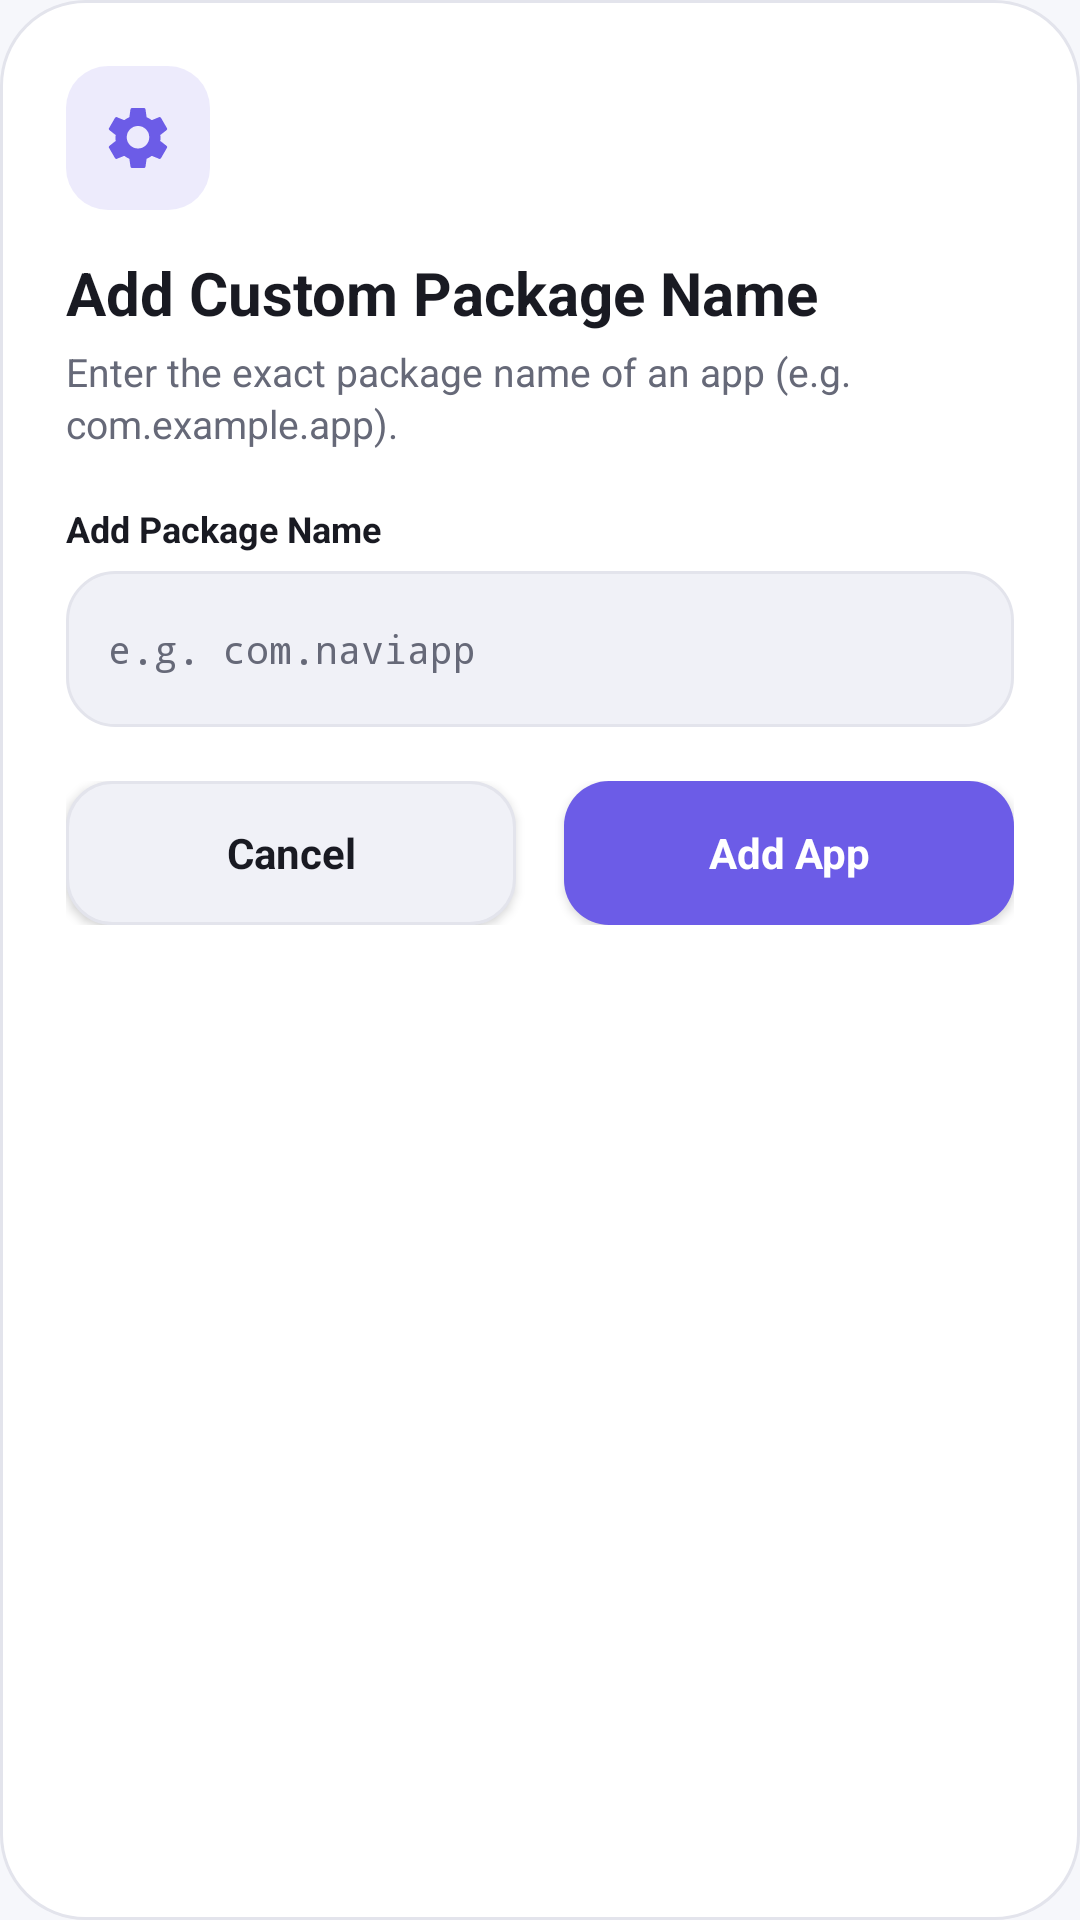

Icon click points for this 1080×1920 phone screenshot, format (x=x, y=y):
settings: (x=138, y=138)
